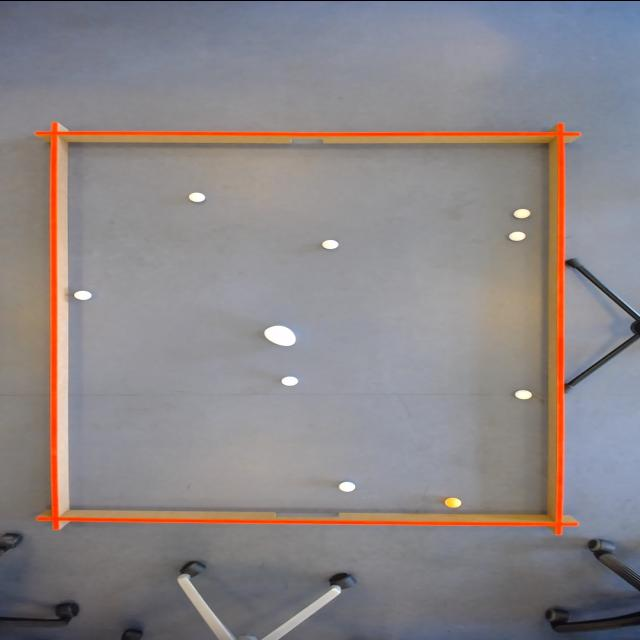egg: (260, 324, 300, 346)
orange_ball: (442, 495, 466, 507)
white_ball: (70, 287, 94, 301), (510, 207, 532, 219), (512, 388, 534, 400), (336, 480, 358, 492), (188, 190, 208, 202), (280, 375, 300, 387), (319, 238, 339, 250), (507, 230, 528, 241)
